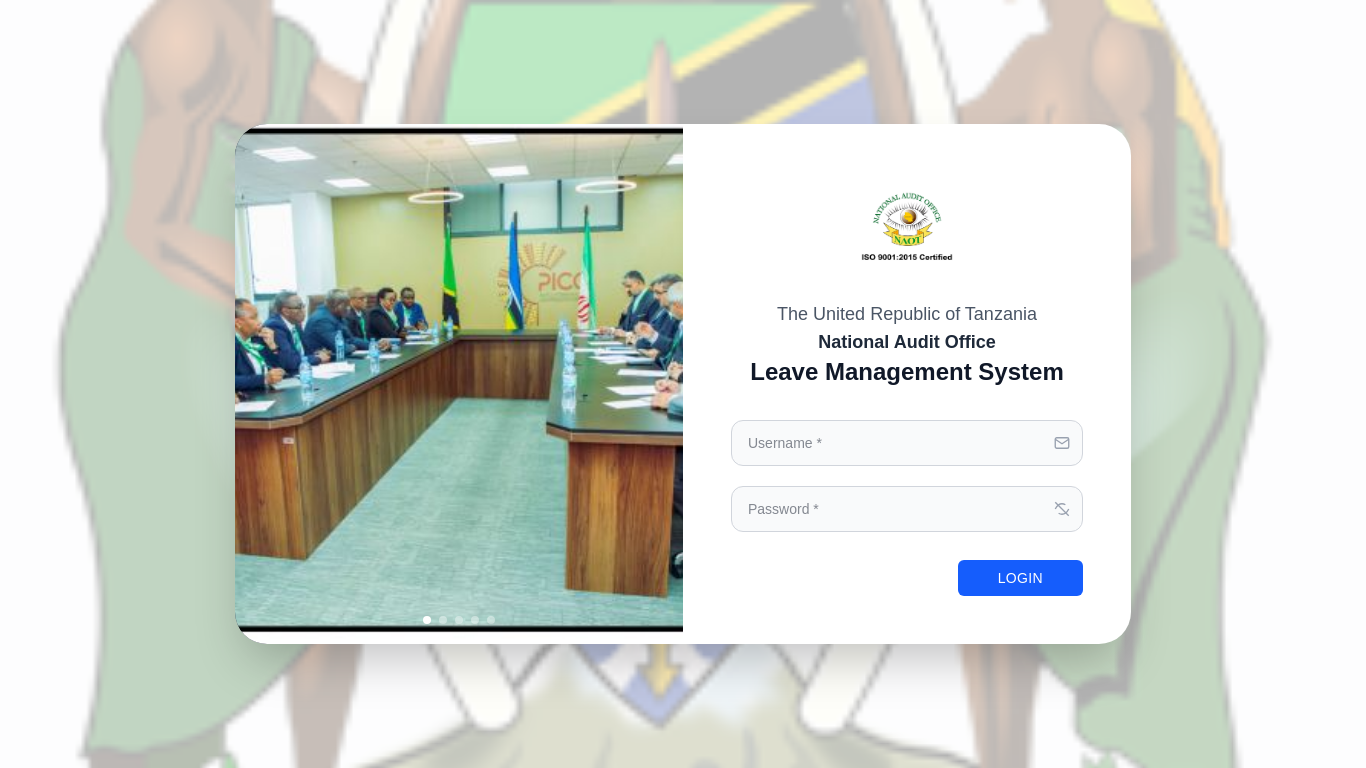
Test: LoginPage › shows the MFA code step when the API returns an MFA challenge
Type "sysadmin1" into the field labelled "Username" at (907, 443), box [731,420,1083,466]
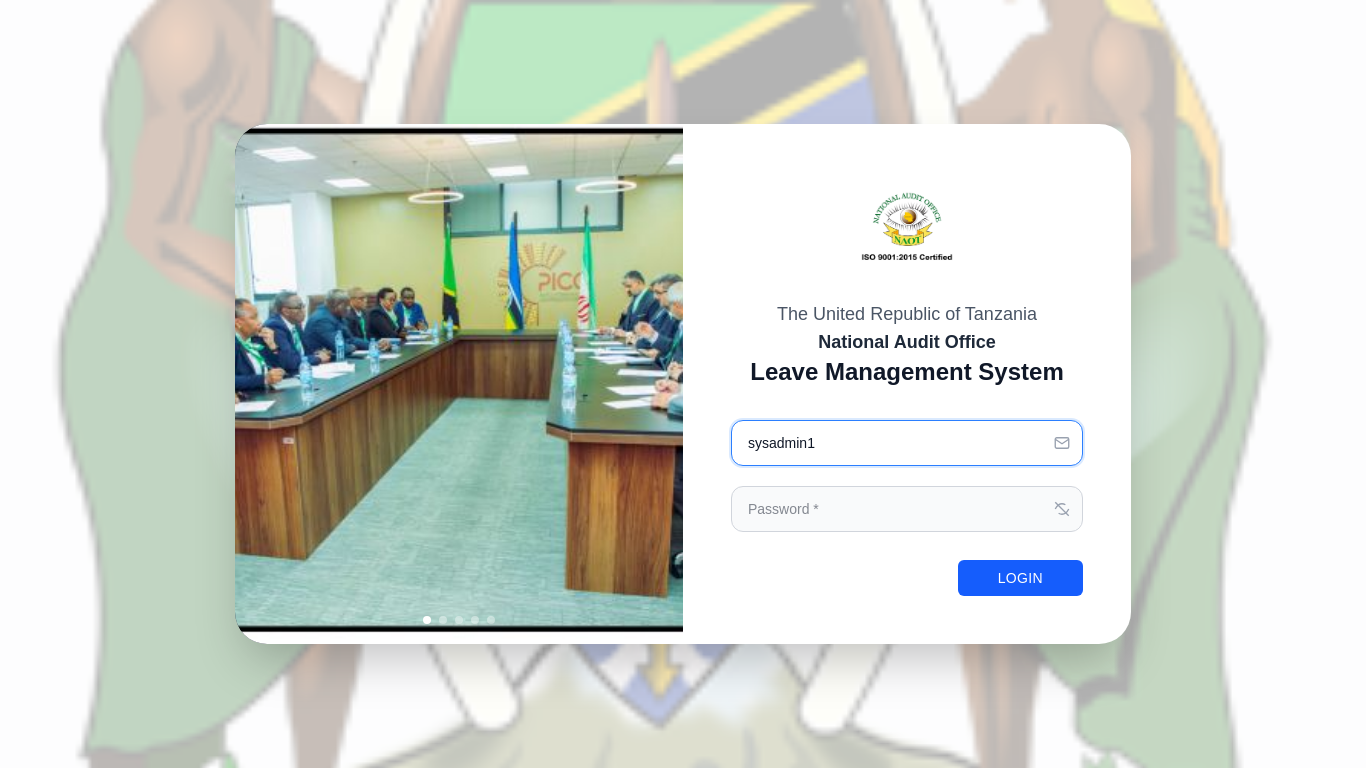
Type "TestPass123!" into the password field labelled "Password" at (907, 509), box [731,486,1083,532]
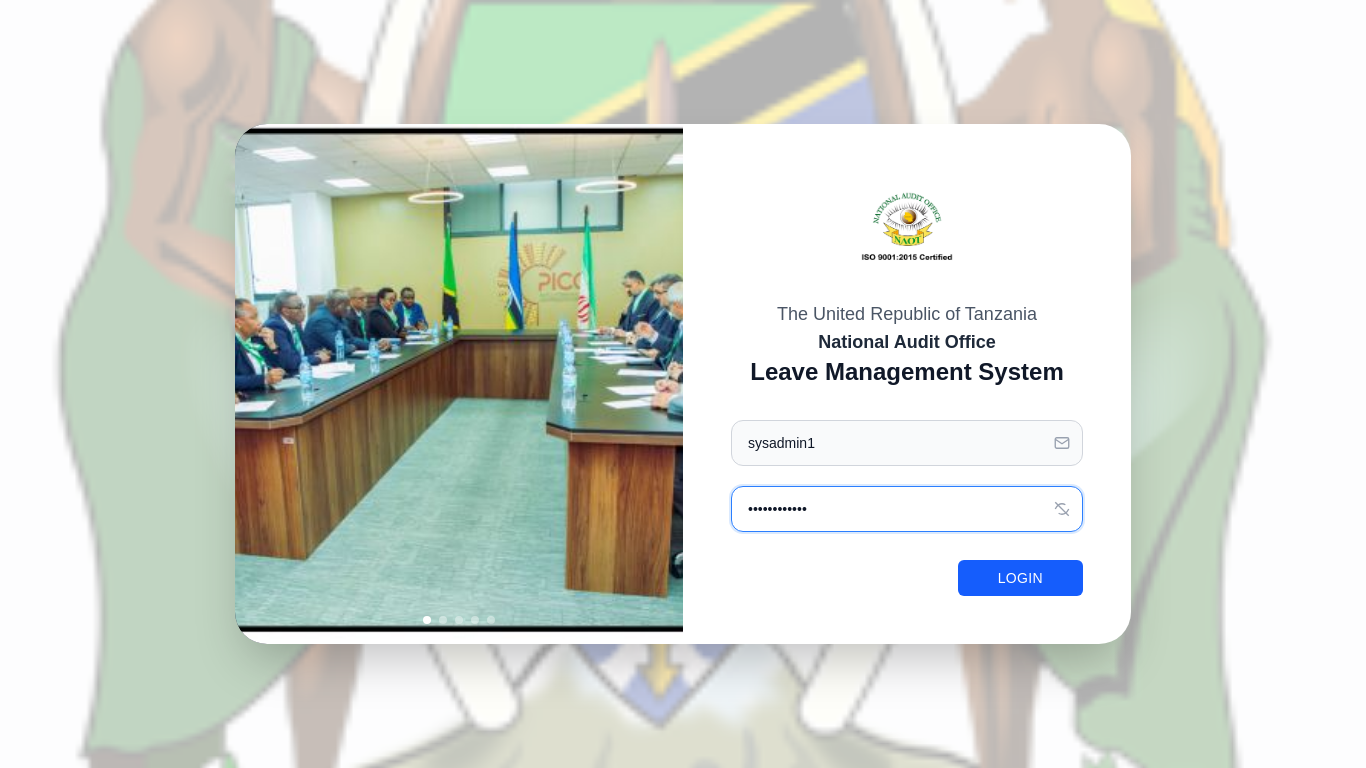
Click the button "LOGIN" at (1020, 578), box [958,560,1083,596]
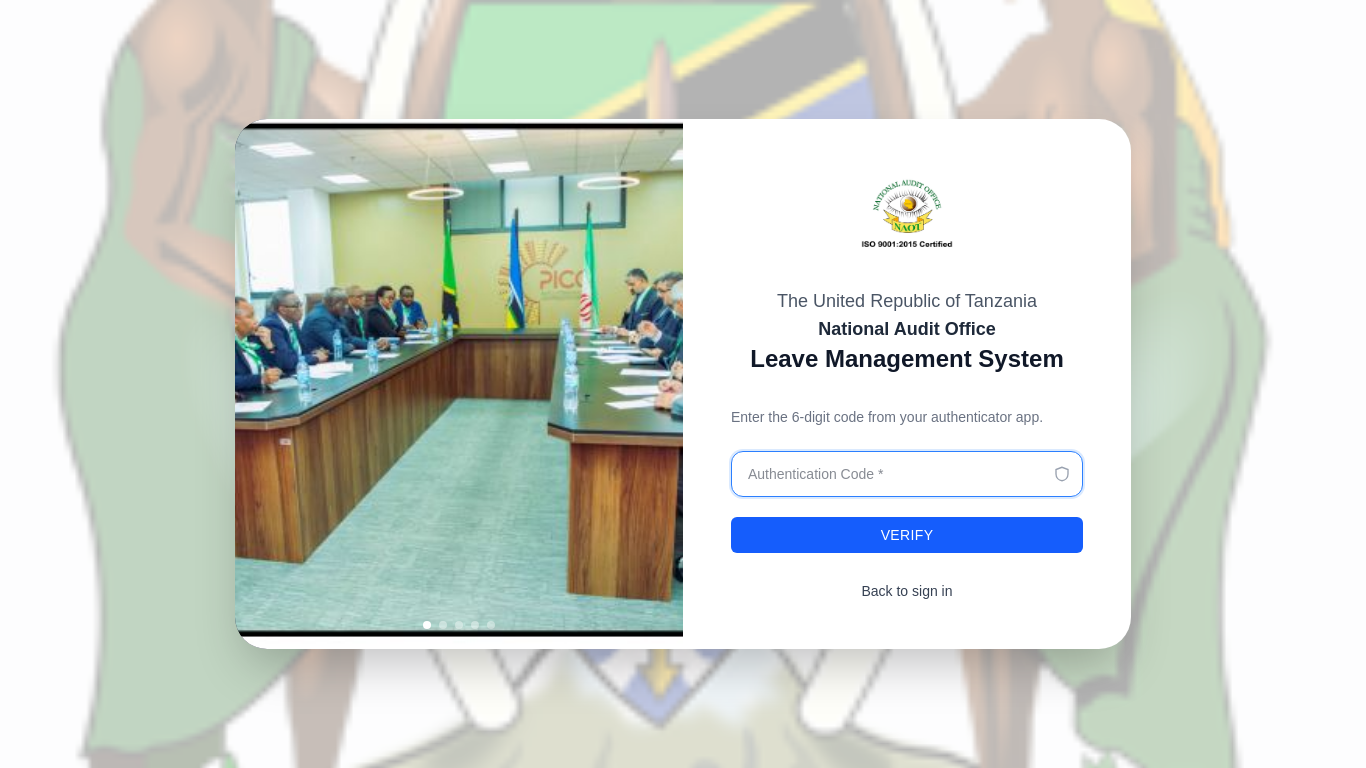
Result: the field labelled "Authentication Code" is shown at [731,451,1083,497]
